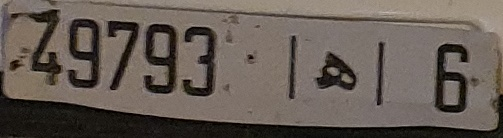3: (181, 25, 218, 97)
4: (27, 15, 65, 88)
6: (433, 41, 472, 113)
7: (105, 19, 141, 92)
9: (142, 21, 179, 95), (67, 18, 103, 91)
h: (311, 47, 361, 92)
